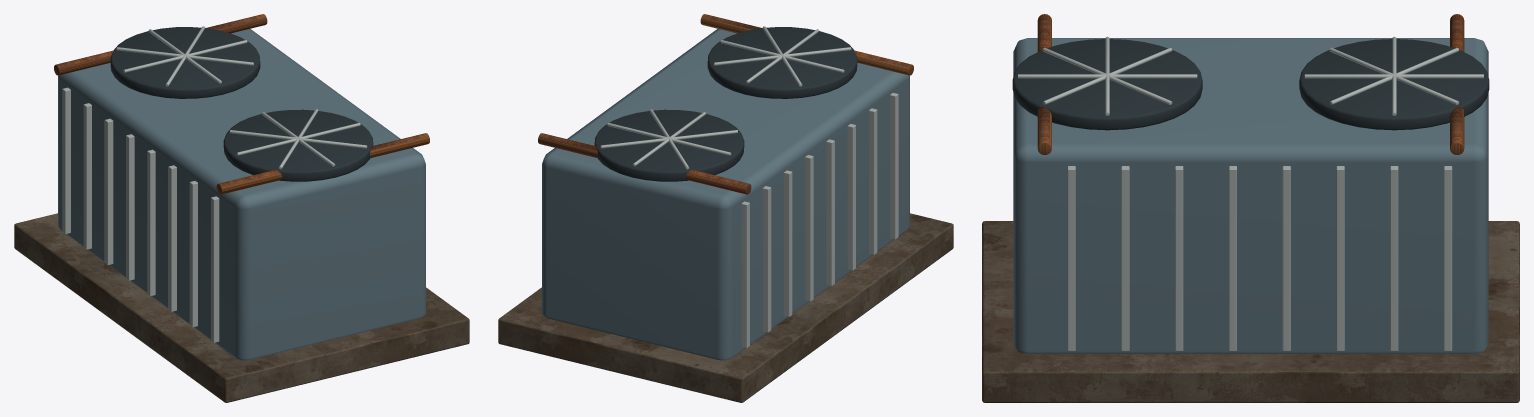
File: industrial-generator.glb
3 views of the same model, side by side, from view 1: azimuth 30°, elevation 25°; view 2: azimuth 150°, elevation 25°; view 3: azimuth 270°, elevation 25° (orthographic). The views are drawn at different scales.
Visible parts, largest first — view 1: industrial-generator; view 2: industrial-generator; view 3: industrial-generator.
Part boxes in pixels (<box>): industrial-generator: <box>14,14,469,402</box>; industrial-generator: <box>498,14,953,402</box>; industrial-generator: <box>982,14,1519,402</box>.
Size of the model in its own units: 2 by 1.56 by 3.
5 materials, 2 textured.
